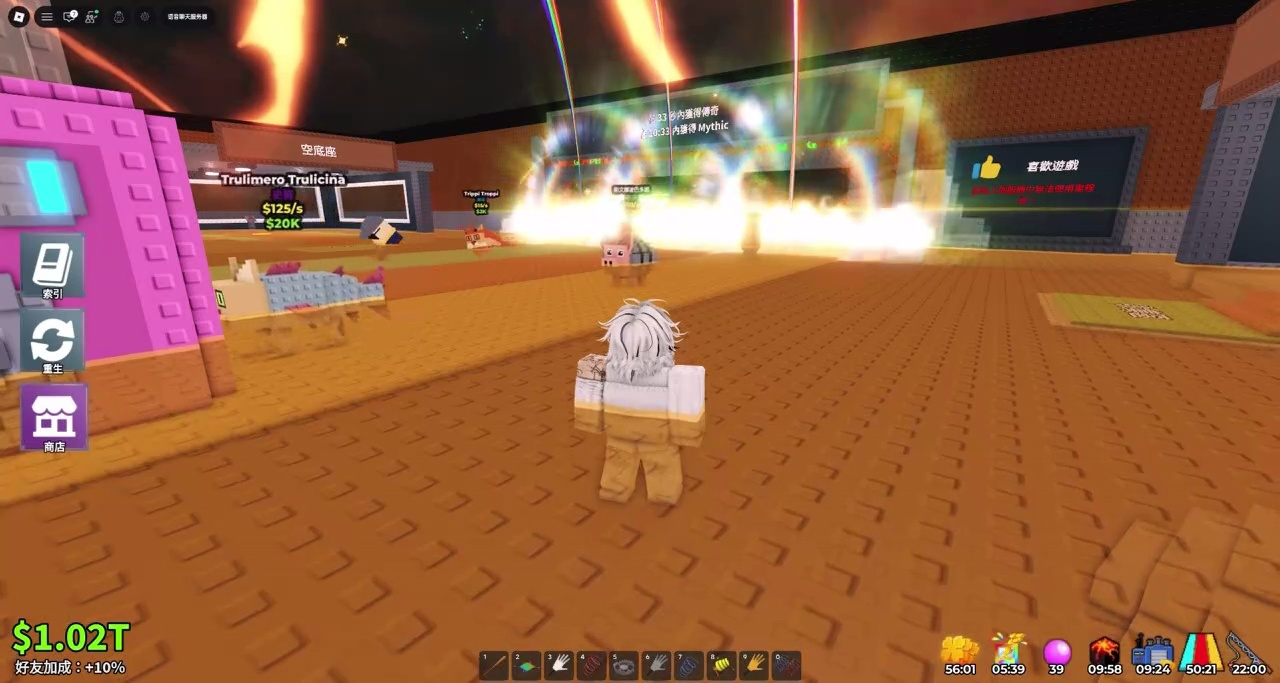price_tag: (467, 188, 502, 214)
